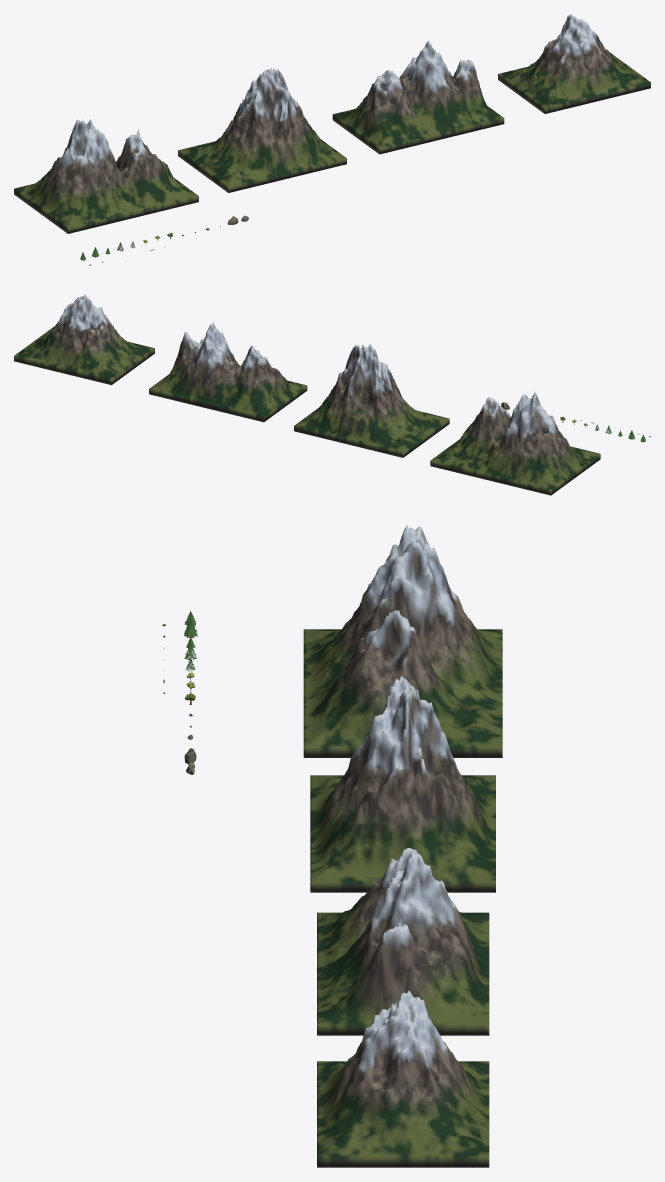
Rendered from DiamondRushScenery.fbx.
The picture shows the model from 3 angles, top to bottom: view 1: azimuth 30°, elevation 25°; view 2: azimuth 150°, elevation 25°; view 3: azimuth 270°, elevation 25°; orthographic projection. The views are drawn at different scales.
Parts seen in each view (by area): view 1: Mountain_A, Mountain_C, Mountain_B, Mountain_D; view 2: Mountain_A, Mountain_B, Mountain_C, Mountain_D; view 3: Mountain_A, Mountain_B, Mountain_C, Mountain_D.
Boxes of the visible parts, left/top/right/bottom form: Mountain_A: left=14, top=119, right=198, bottom=233; Mountain_C: left=332, top=40, right=504, bottom=154; Mountain_B: left=178, top=67, right=346, bottom=192; Mountain_D: left=498, top=14, right=650, bottom=113; Mountain_A: left=430, top=392, right=600, bottom=495; Mountain_B: left=294, top=344, right=449, bottom=457; Mountain_C: left=149, top=321, right=307, bottom=422; Mountain_D: left=14, top=294, right=154, bottom=384; Mountain_A: left=303, top=525, right=502, bottom=757; Mountain_B: left=310, top=675, right=495, bottom=892; Mountain_C: left=317, top=848, right=489, bottom=1035; Mountain_D: left=317, top=990, right=489, bottom=1167.
Size of the model in its own units: 1939 by 275 by 513.
